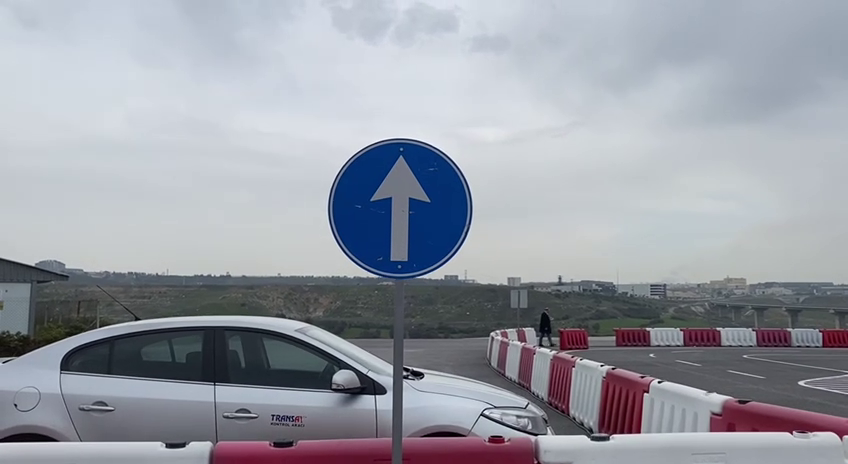forward: (325, 135, 475, 282)
